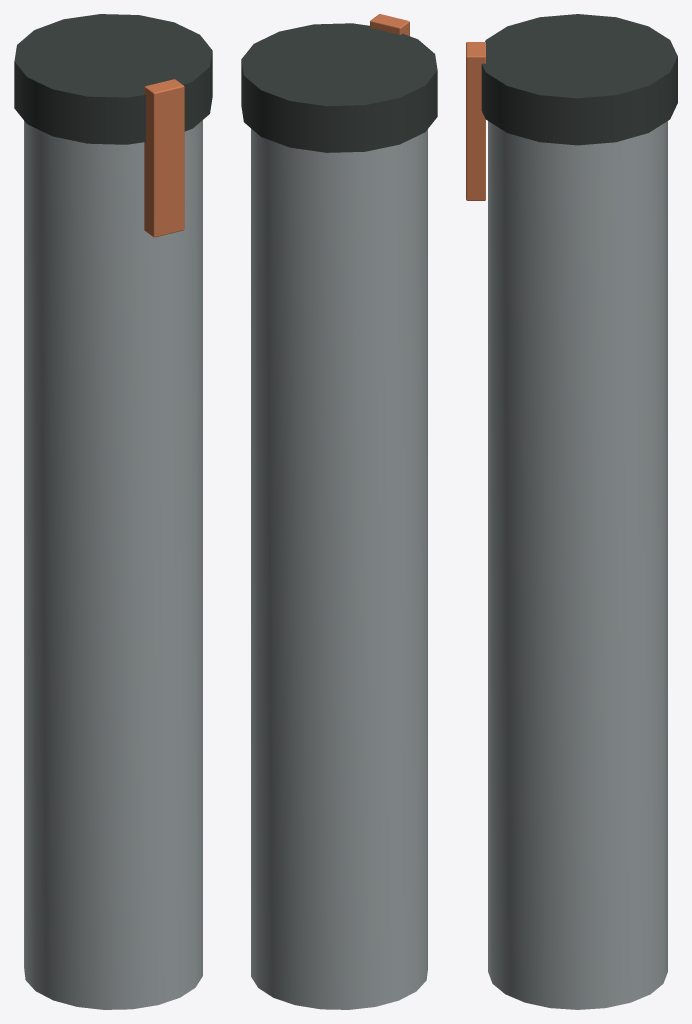
File: extraction-routes-and-objectives-sealed-document-tube-1a06e58e__22148.glb
3 views of the same model, side by side, from view 1: azimuth 30°, elevation 25°; view 2: azimuth 150°, elevation 25°; view 3: azimuth 270°, elevation 25° (orthographic).
Visible parts, largest first — view 1: sealed-document-tube; view 2: sealed-document-tube; view 3: sealed-document-tube.
Boxes of the visible parts, x1,y1,x2,y2 form: sealed-document-tube: (14, 14, 212, 1009); sealed-document-tube: (241, 14, 437, 1009); sealed-document-tube: (466, 14, 677, 1009).
Bounding box in the file's own units: 0.1 × 0.51 × 0.106.
